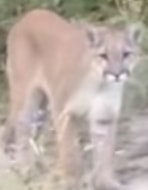Mountain Lion: (7, 8, 144, 189)
